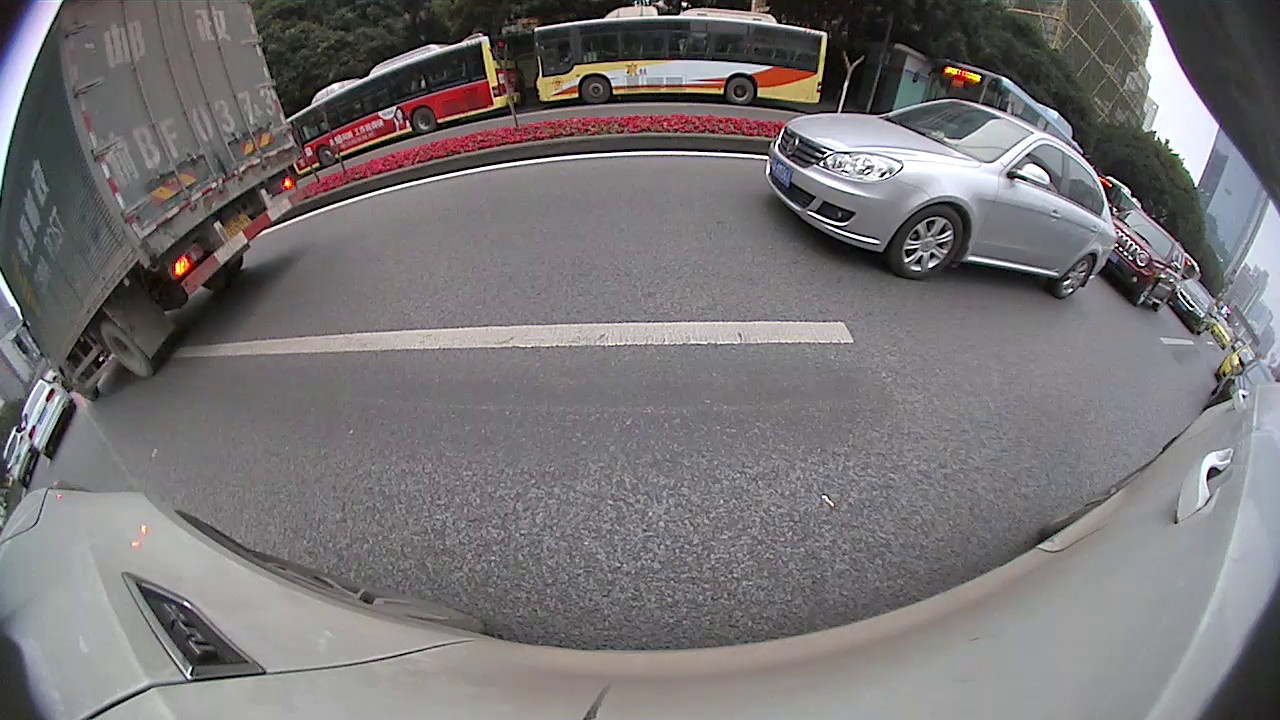bus: (286, 36, 520, 174), (532, 3, 829, 108), (923, 57, 1088, 158)
car: (767, 96, 1117, 302), (1112, 209, 1188, 312), (19, 383, 78, 459), (1172, 280, 1221, 337), (1219, 364, 1278, 404)
front: (888, 207, 964, 279), (581, 76, 611, 105), (1136, 282, 1156, 305), (319, 143, 338, 166)
rear: (102, 322, 155, 379), (1053, 256, 1092, 299), (725, 77, 754, 105), (413, 106, 437, 134)
truck: (2, 3, 302, 402)
